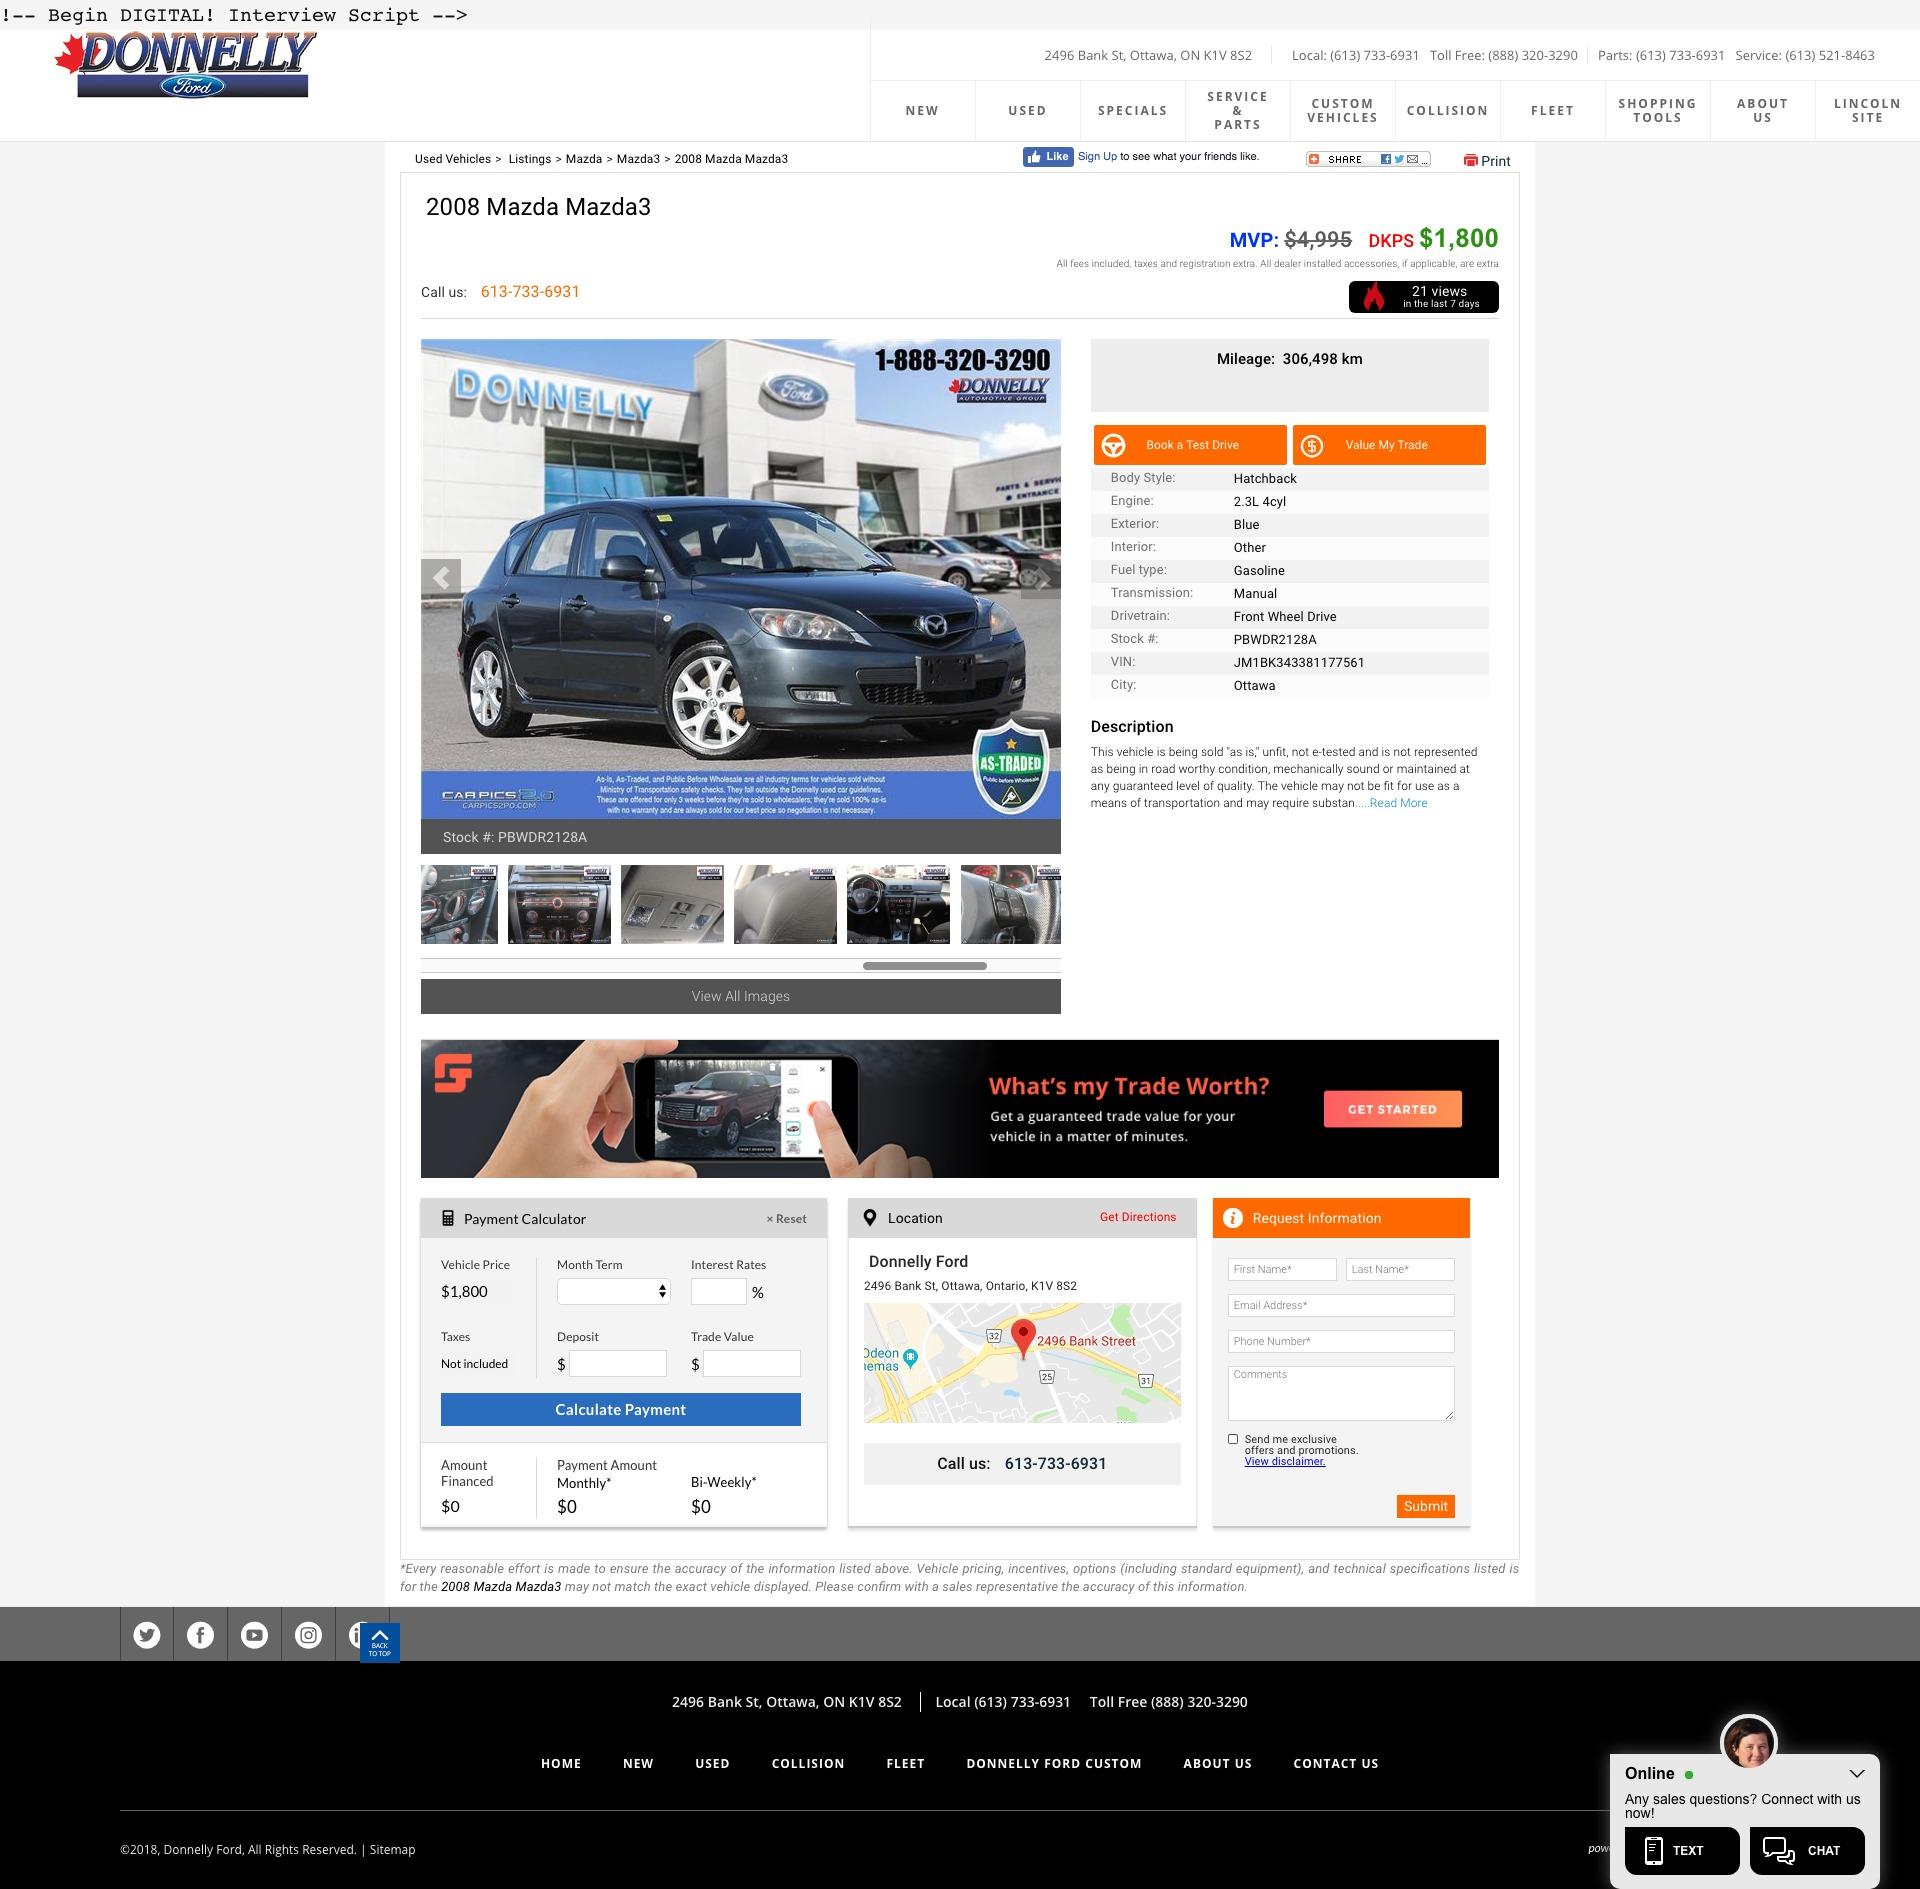car: (1019, 559, 1064, 600)
